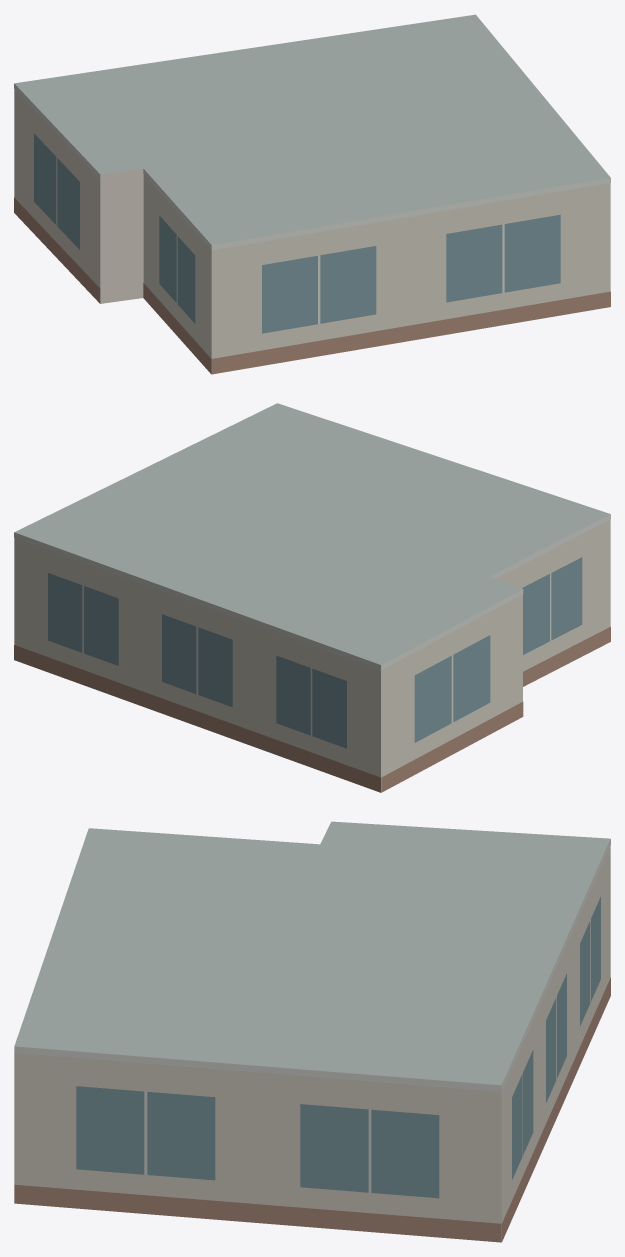
File: survey-upis-32754696.glb
3 renders of one model, top to bottom at view 1: azimuth 30°, elevation 25°; view 2: azimuth 150°, elevation 25°; view 3: azimuth 270°, elevation 25°, orthographic. The views are drawn at different scales.
Parts seen in each view (by area): view 1: survey-upis-32754696.tmp; view 2: survey-upis-32754696.tmp; view 3: survey-upis-32754696.tmp.
Boxes of the visible parts, bbox=[...] form: survey-upis-32754696.tmp: bbox=[14, 14, 610, 374]; survey-upis-32754696.tmp: bbox=[14, 403, 610, 792]; survey-upis-32754696.tmp: bbox=[14, 821, 610, 1242].
Bounding box in the file's own units: 11 × 3.05 × 10.51.
